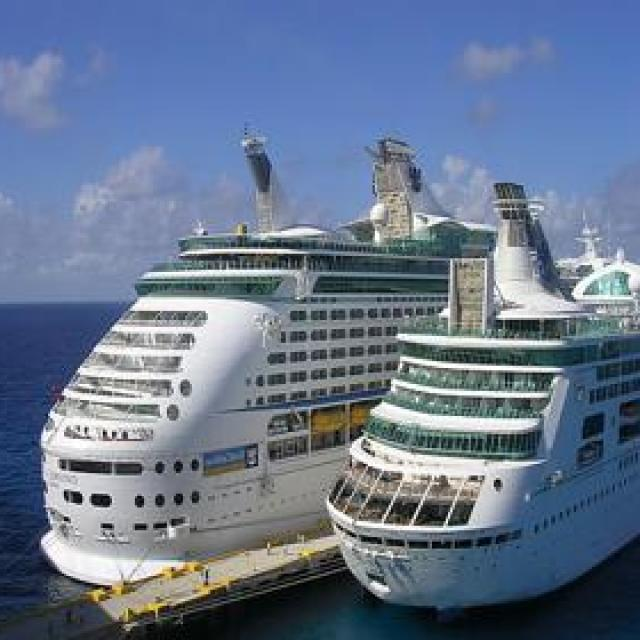passenger ship: (31, 138, 503, 586), (329, 235, 640, 610)
